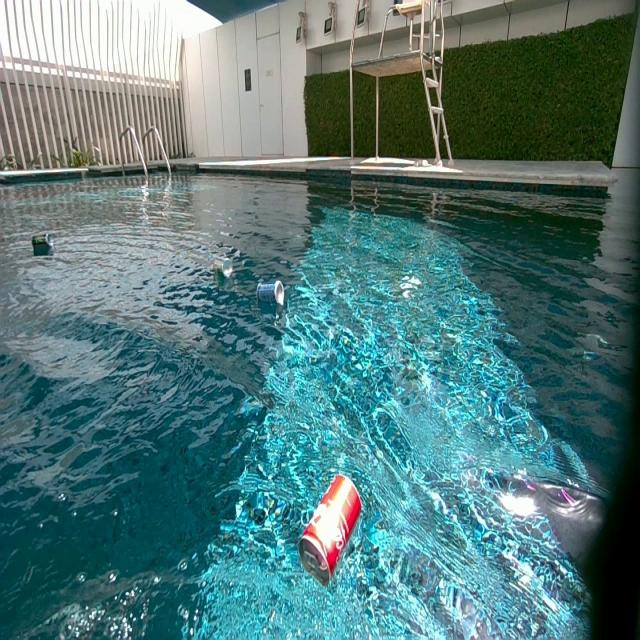Cans: (296, 477, 362, 588), (258, 278, 286, 304), (31, 233, 53, 252), (214, 261, 231, 281)
